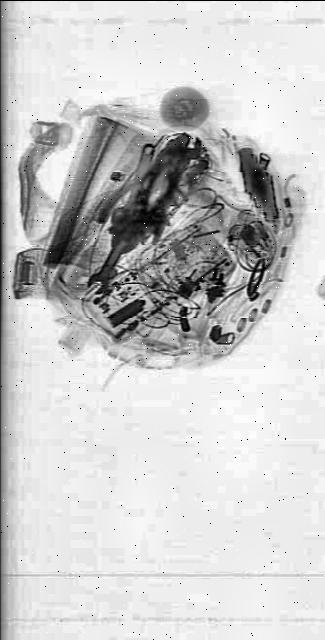Wrench: (84, 224, 130, 306)
